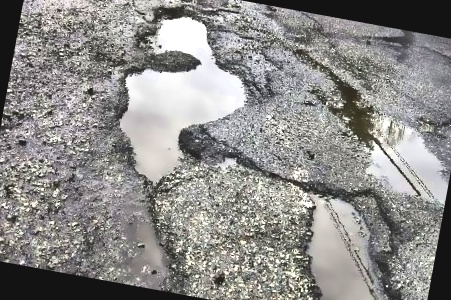pothole: (101, 0, 268, 203), (270, 173, 446, 300)
